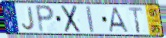A: (108, 6, 131, 34)
I: (85, 6, 96, 35)
J: (22, 6, 36, 31)
P: (34, 3, 56, 33)
T: (127, 6, 144, 34)
X: (61, 5, 82, 34)
